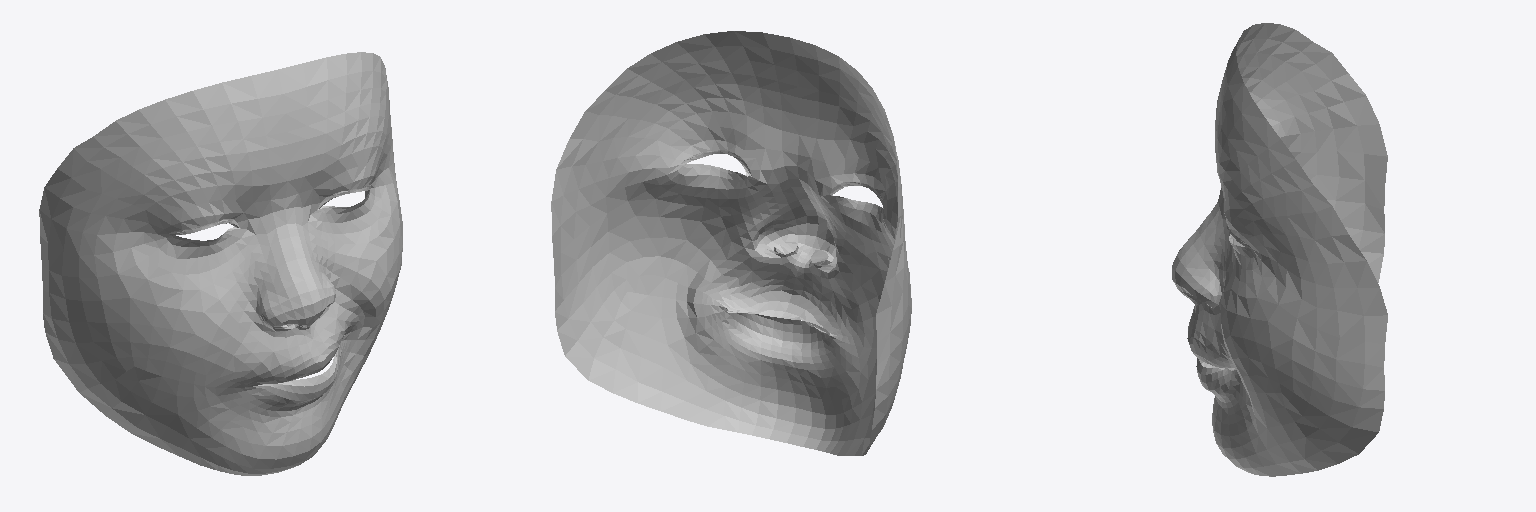
Rendered from mouthLeft.obj.
3 renders of one model, left to right at view 1: azimuth 30°, elevation 25°; view 2: azimuth 150°, elevation 25°; view 3: azimuth 270°, elevation 25°, orthographic.
Visible parts, largest first — view 1: default; view 2: default; view 3: default.
Part boxes in pixels (x1,y1,x2,y2): default: (39, 52, 402, 475); default: (551, 31, 911, 455); default: (1172, 23, 1387, 476).
Bounding box in the file's own units: 0.1624 × 0.1867 × 0.0905.